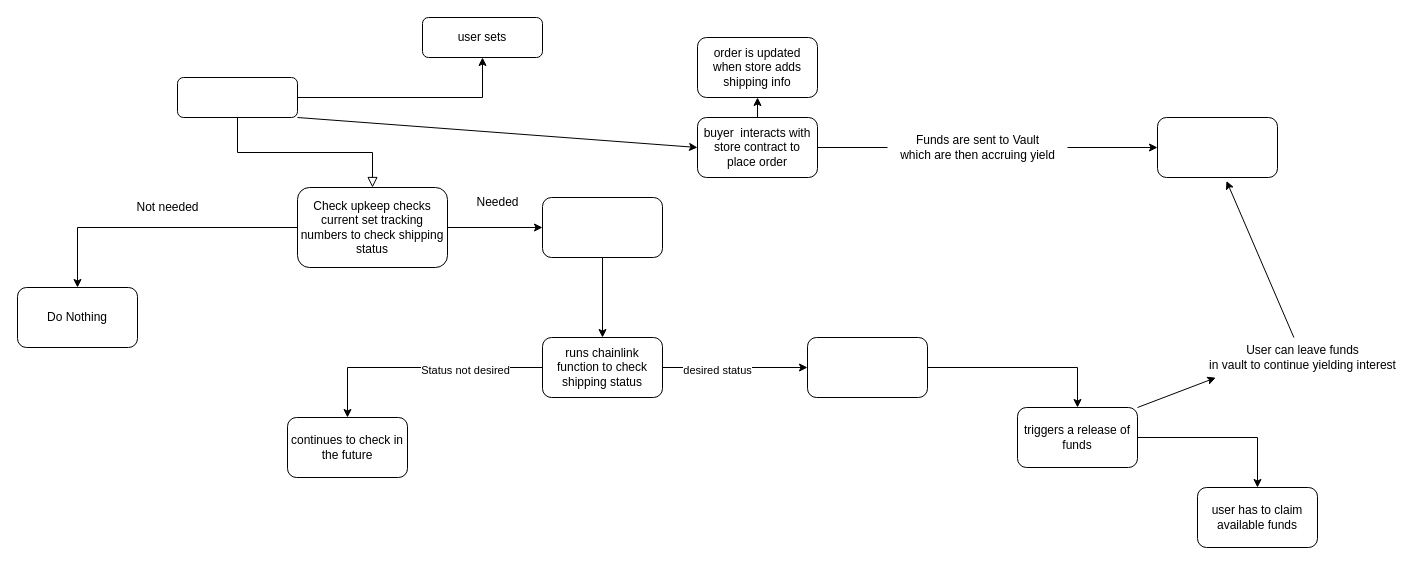
Some shapes in this 1425 by 565 pixel diagram are drawn without their labels. Each missing label, with the centre of its shape:
deploy contract: pixel 237 97
perform upkeep: pixel 602 227
triggers an update on the tracking struct to update: pixel 867 367
Vault: pixel 1217 147
